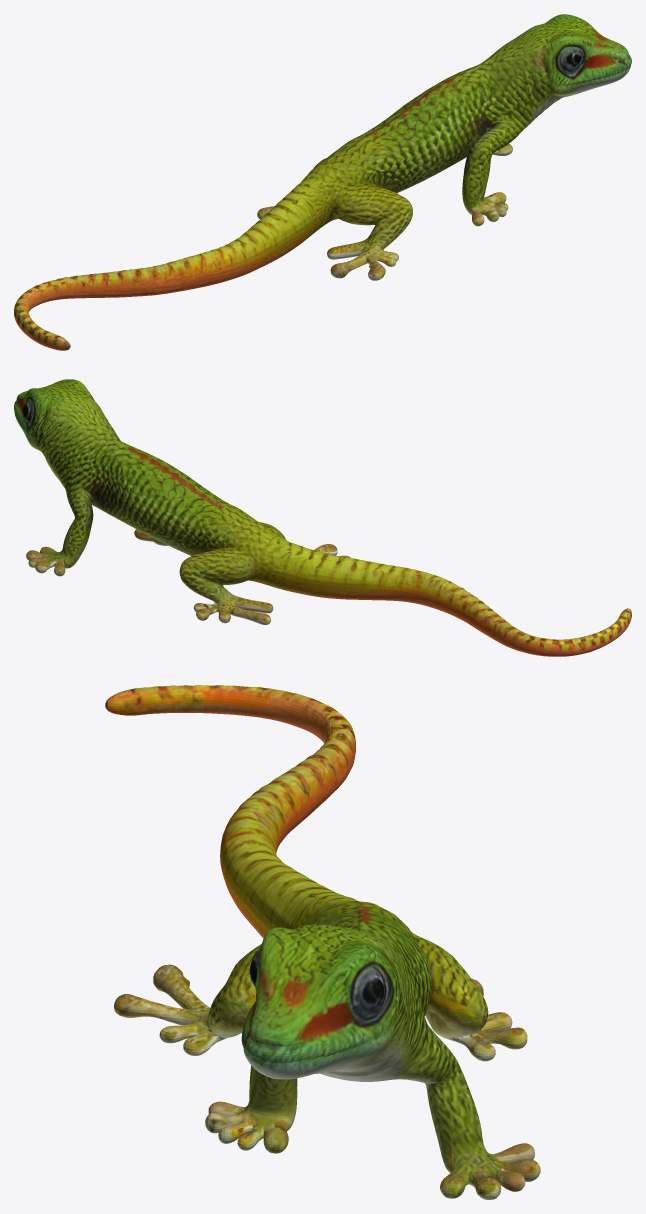
File: Anolis.glb
The picture shows the model from 3 angles, top to bottom: view 1: azimuth 30°, elevation 25°; view 2: azimuth 150°, elevation 25°; view 3: azimuth 270°, elevation 25°; orthographic projection. The views are drawn at different scales.
Visible parts, largest first — view 1: tripo_node_8067e0d3-1e30-4966-8baf-f7ff5e89a555; view 2: tripo_node_8067e0d3-1e30-4966-8baf-f7ff5e89a555; view 3: tripo_node_8067e0d3-1e30-4966-8baf-f7ff5e89a555.
Boxes of the visible parts, x1,y1,x2,y2 form: tripo_node_8067e0d3-1e30-4966-8baf-f7ff5e89a555: (14, 14, 631, 350); tripo_node_8067e0d3-1e30-4966-8baf-f7ff5e89a555: (14, 379, 631, 656); tripo_node_8067e0d3-1e30-4966-8baf-f7ff5e89a555: (105, 685, 540, 1199).
Bounding box in the file's own units: 1 × 0.249 × 0.3238.
1 material, 1 textured.
